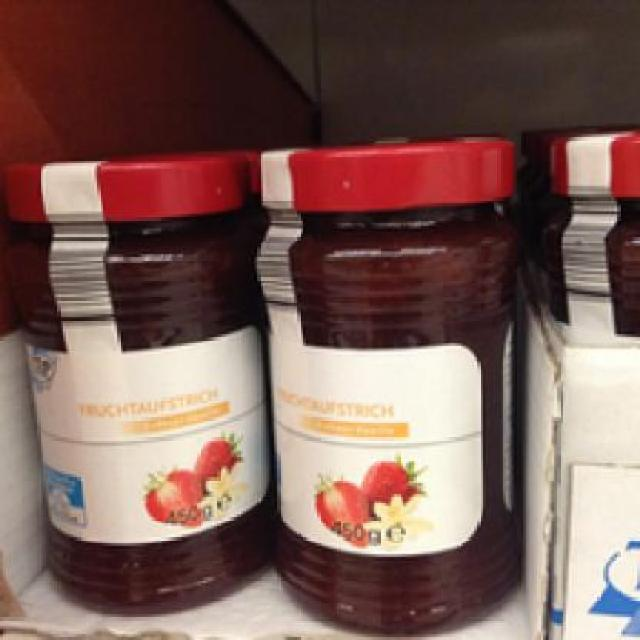Jam: (252, 135, 528, 634), (2, 152, 272, 614)
